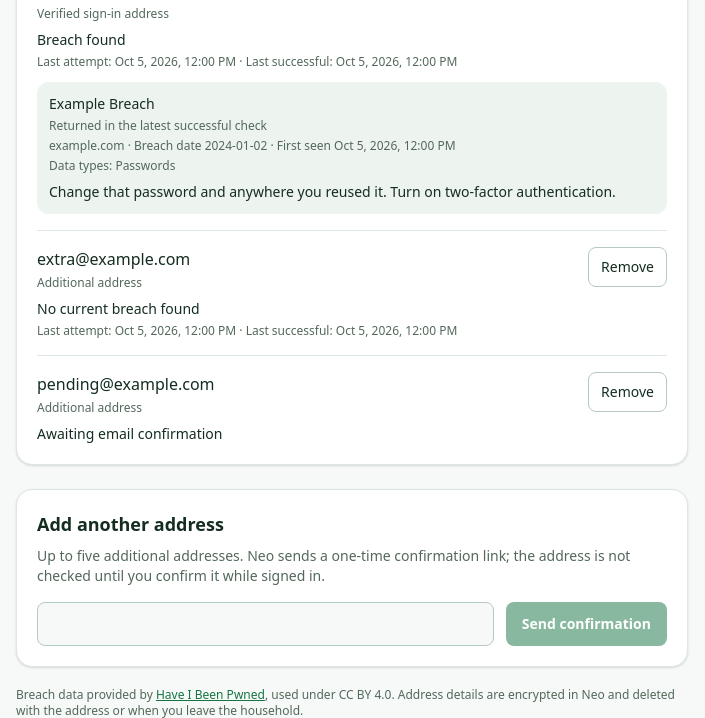
it: breach monitoring Settings › requests verification for an additional address and reports pending confirmation
(page scrolled)
Type "new@example.com" into the field named "additional email address" at (265, 624), box [37,602,494,646]
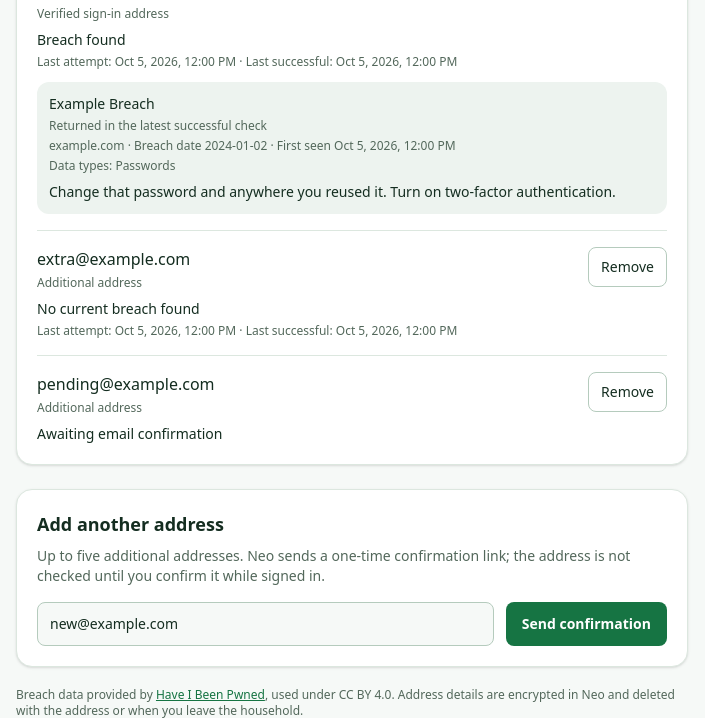
Click the button "Send confirmation" at (586, 624), box [506,602,667,646]
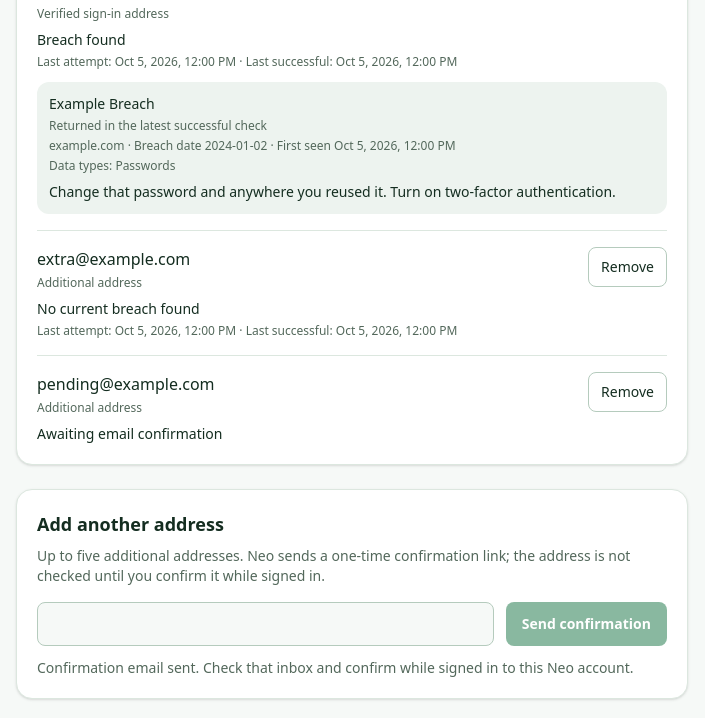
Now the message shows "Confirmation email sent", box [37,658,634,676]
